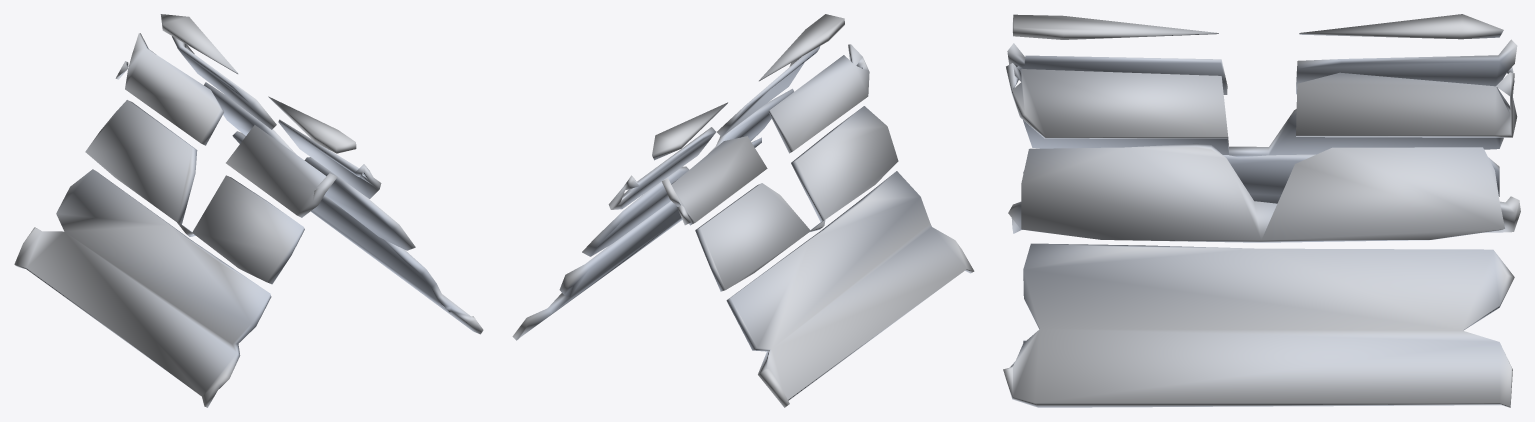
Rendered from protocol.blur.snow.glb.
3 views of the same model, side by side, from view 1: azimuth 30°, elevation 25°; view 2: azimuth 150°, elevation 25°; view 3: azimuth 270°, elevation 25° (orthographic). The views are drawn at different scales.
Parts seen in each view (by area): view 1: building.protocol.blur.snow.mesh; view 2: building.protocol.blur.snow.mesh; view 3: building.protocol.blur.snow.mesh.
Boxes of the visible parts, left/top/right/bottom form: building.protocol.blur.snow.mesh: left=14, top=14, right=483, bottom=407; building.protocol.blur.snow.mesh: left=512, top=14, right=974, bottom=407; building.protocol.blur.snow.mesh: left=1003, top=14, right=1520, bottom=407.
Size of the model in its own units: 2.67 by 2.06 by 3.2.
